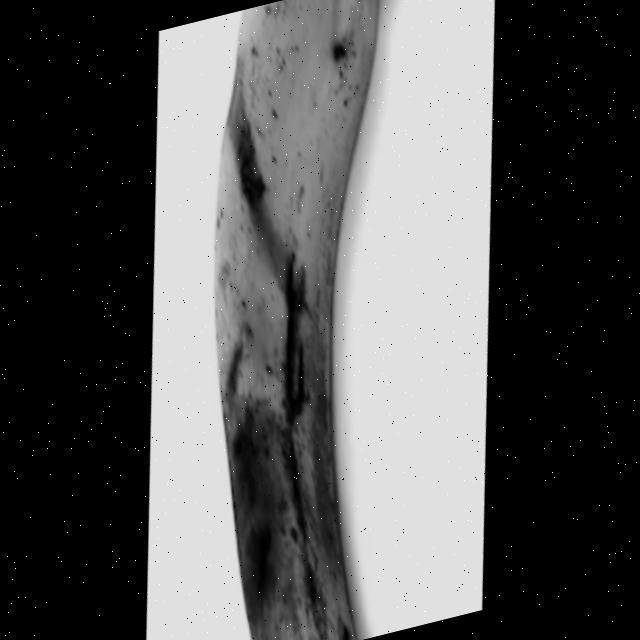overripe: (100, 0, 527, 640)
